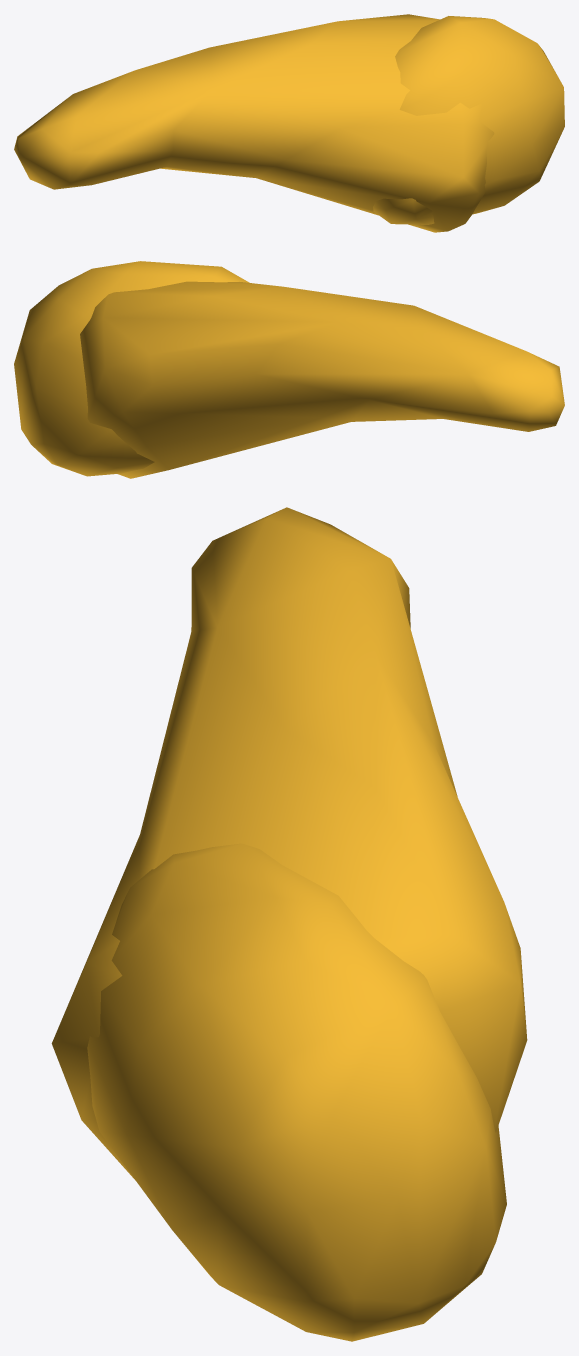
Rendered from nervoso-superior-colliculus-r.glb.
The picture shows the model from 3 angles, top to bottom: view 1: azimuth 30°, elevation 25°; view 2: azimuth 150°, elevation 25°; view 3: azimuth 270°, elevation 25°; orthographic projection. The views are drawn at different scales.
Visible parts, largest first — view 1: Superior colliculus.r; view 2: Superior colliculus.r; view 3: Superior colliculus.r.
Part boxes in pixels (bbox=[...]): Superior colliculus.r: bbox=[14, 14, 564, 232]; Superior colliculus.r: bbox=[14, 261, 564, 478]; Superior colliculus.r: bbox=[51, 507, 527, 1341].
Size of the model in its own units: 0.017 by 0.00635 by 0.00647.
